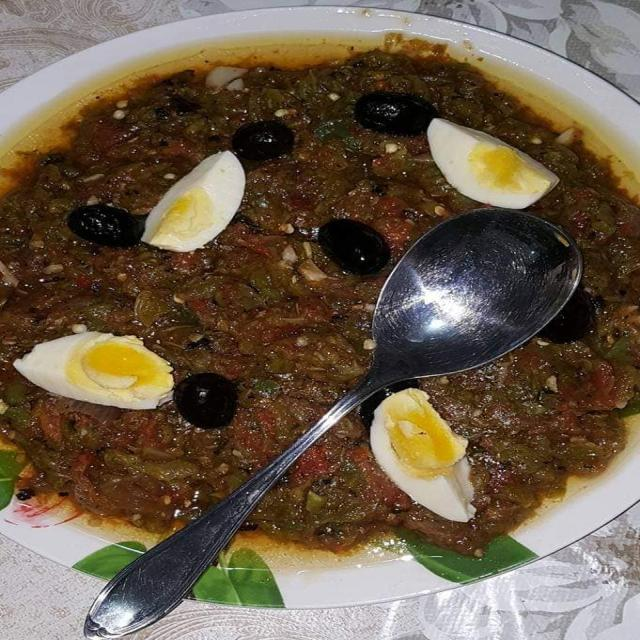Salade mechweya: (0, 36, 633, 590)
